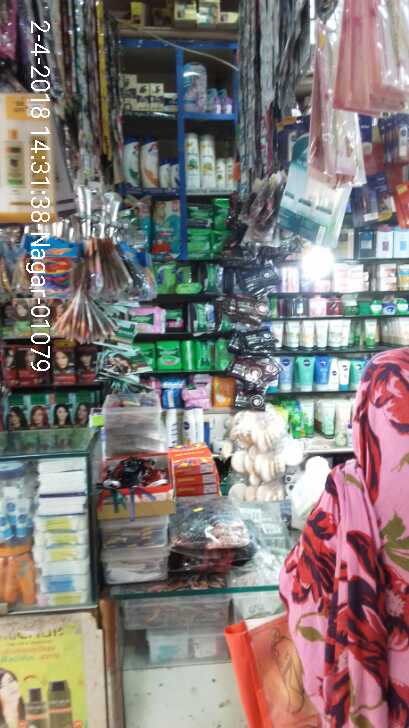venus: (185, 62, 206, 111), (208, 90, 221, 112), (221, 89, 232, 112)
